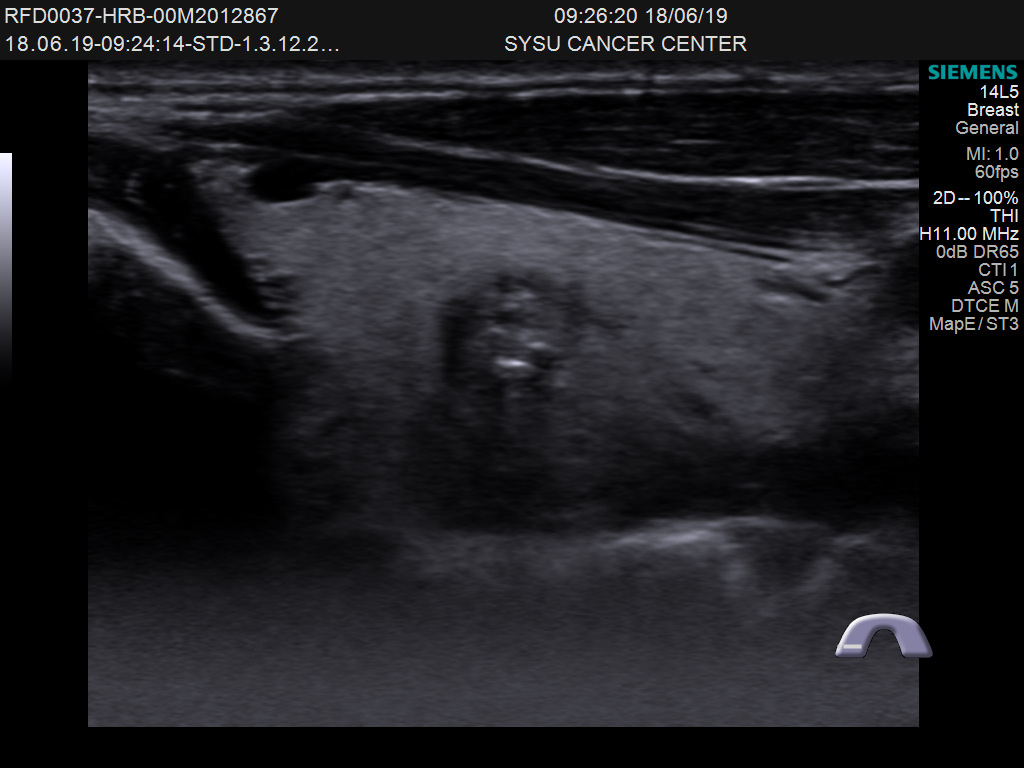Thyroid_tumor: (434, 258, 600, 442)
